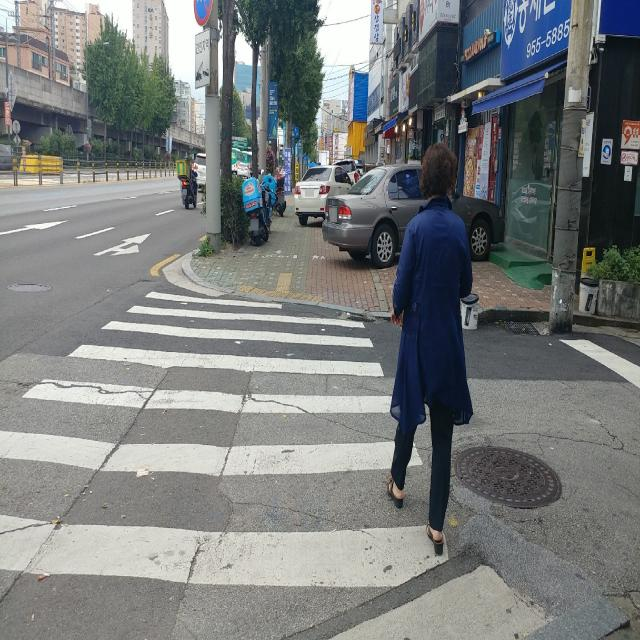횡단보도: (0, 290, 452, 592)
